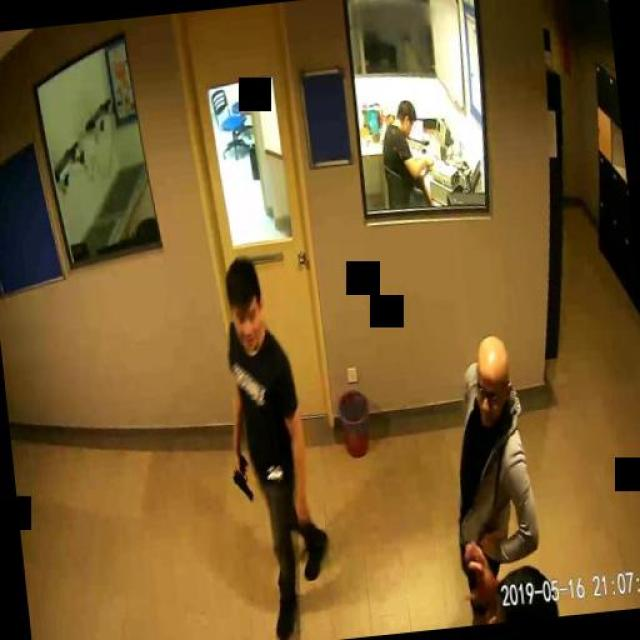gun: (228, 454, 252, 500)
